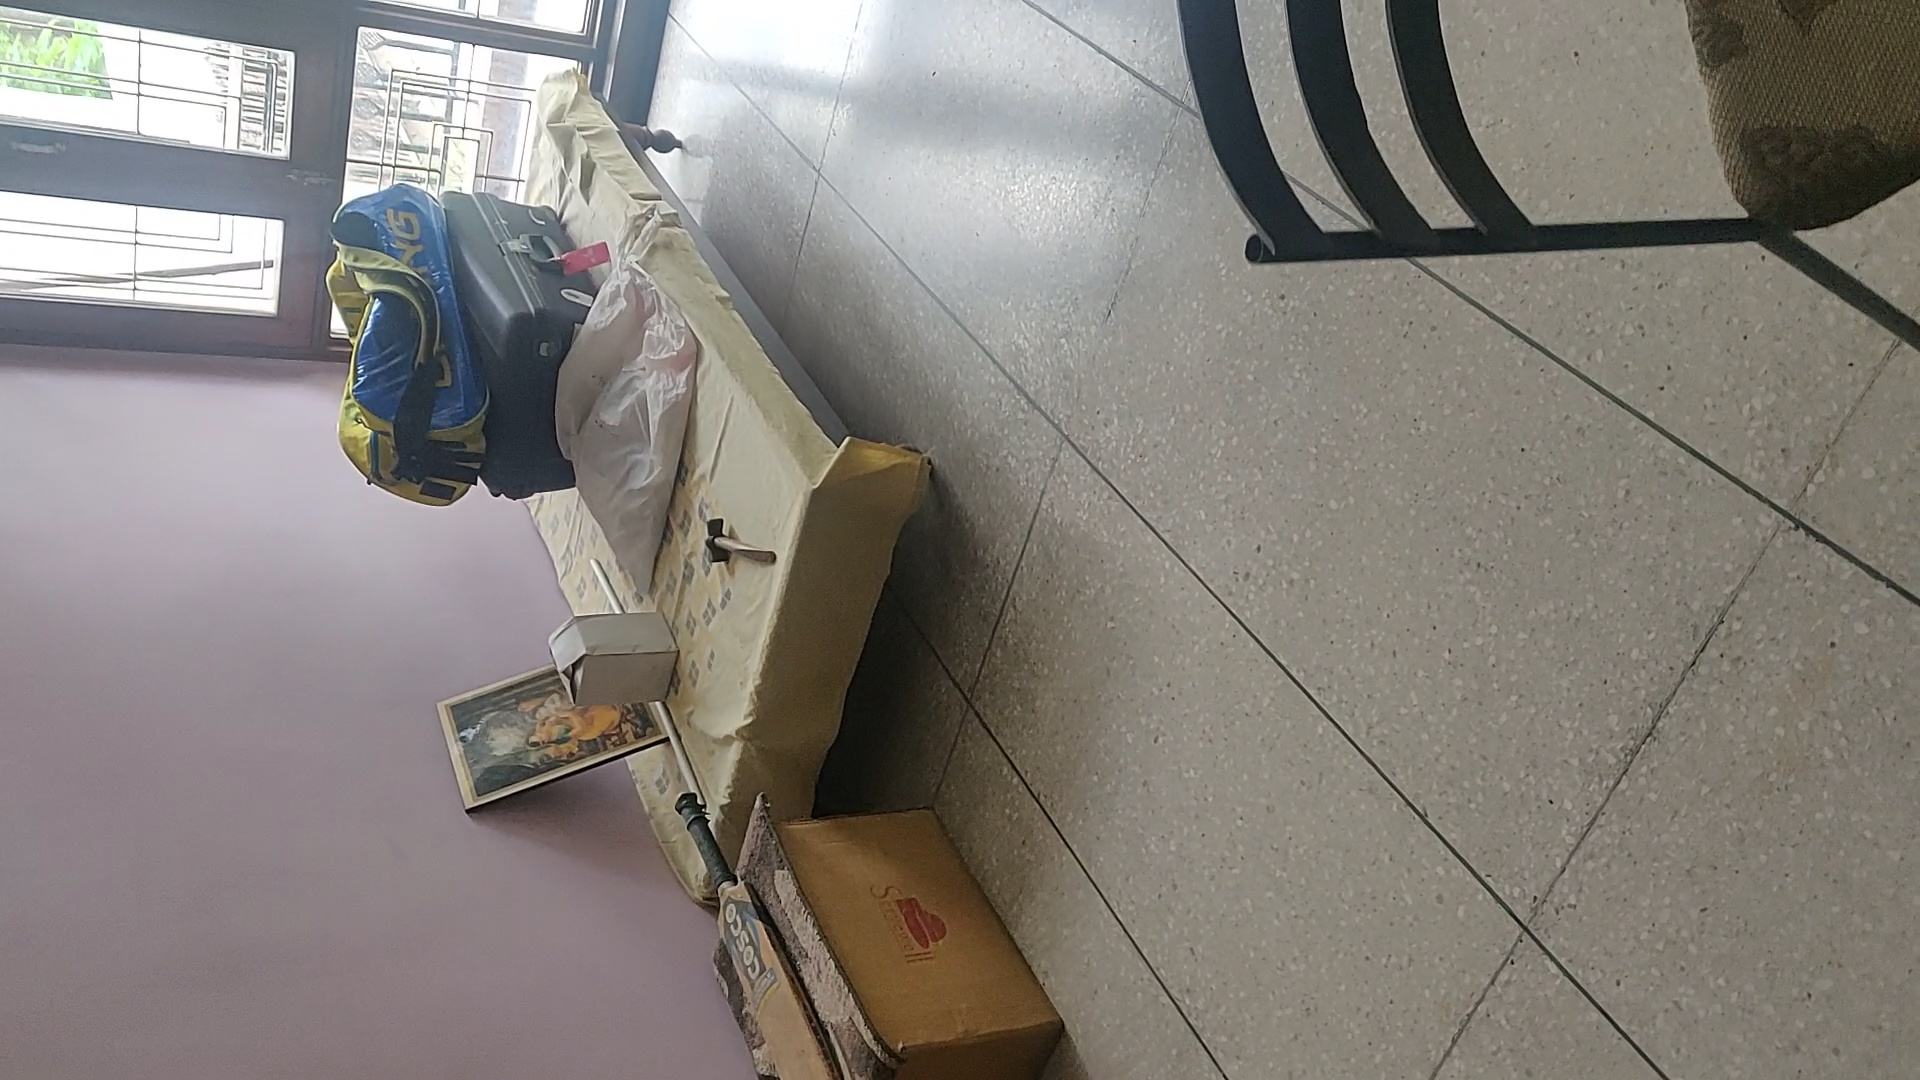hammer: (703, 513, 778, 572)
